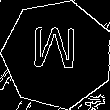M_S: (33, 29, 82, 81)
